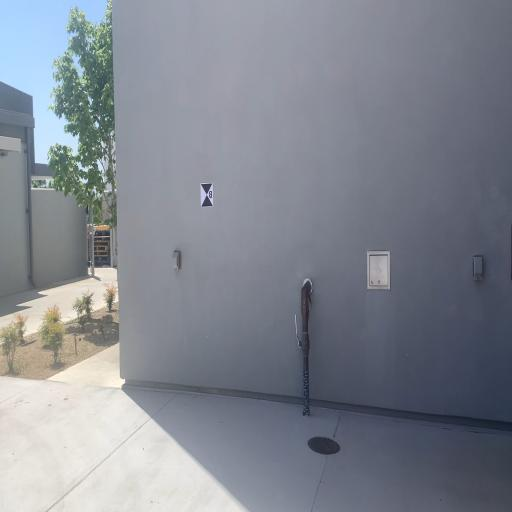target8: (200, 183, 214, 207)
